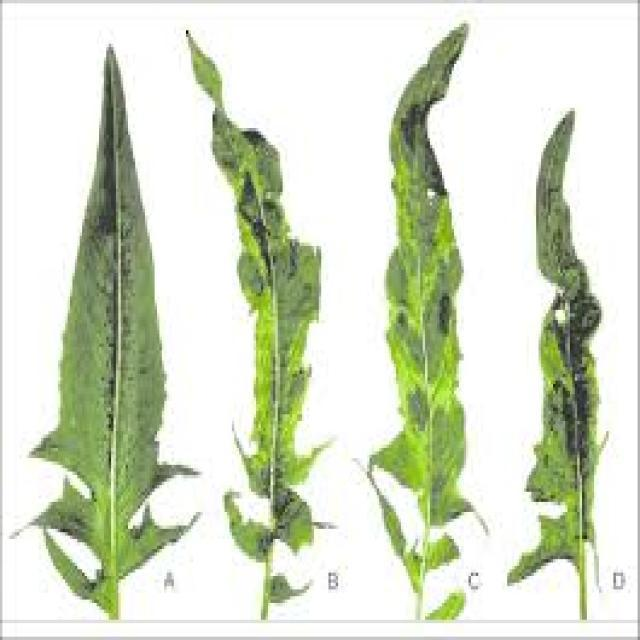leaf: (11, 42, 202, 619), (183, 28, 337, 619), (358, 20, 488, 619), (505, 107, 605, 619)
